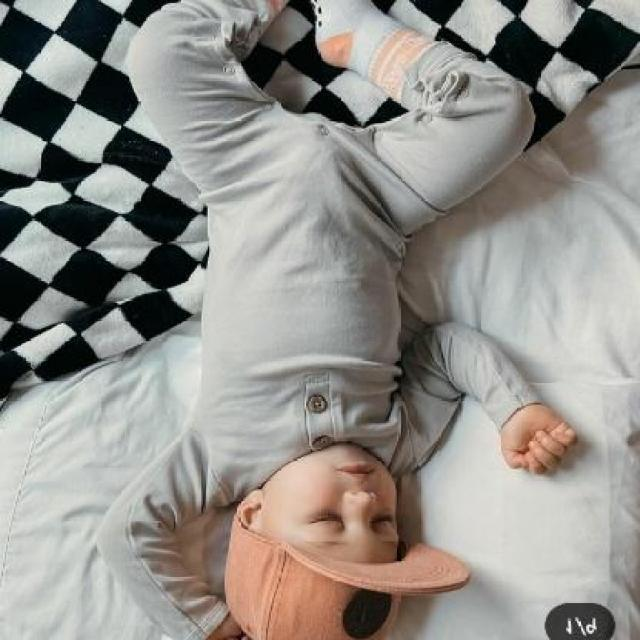child: (98, 2, 577, 639)
